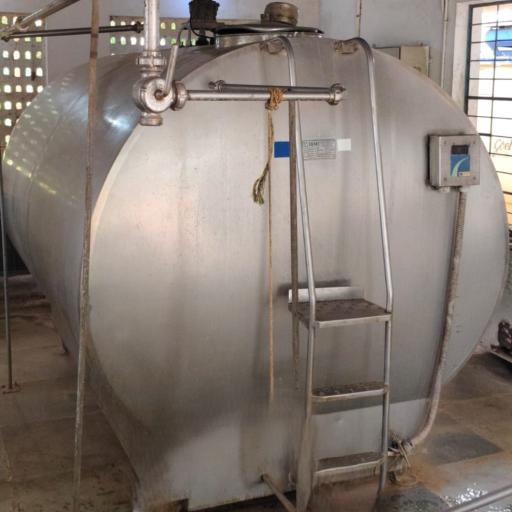silo: (1, 21, 509, 506)
